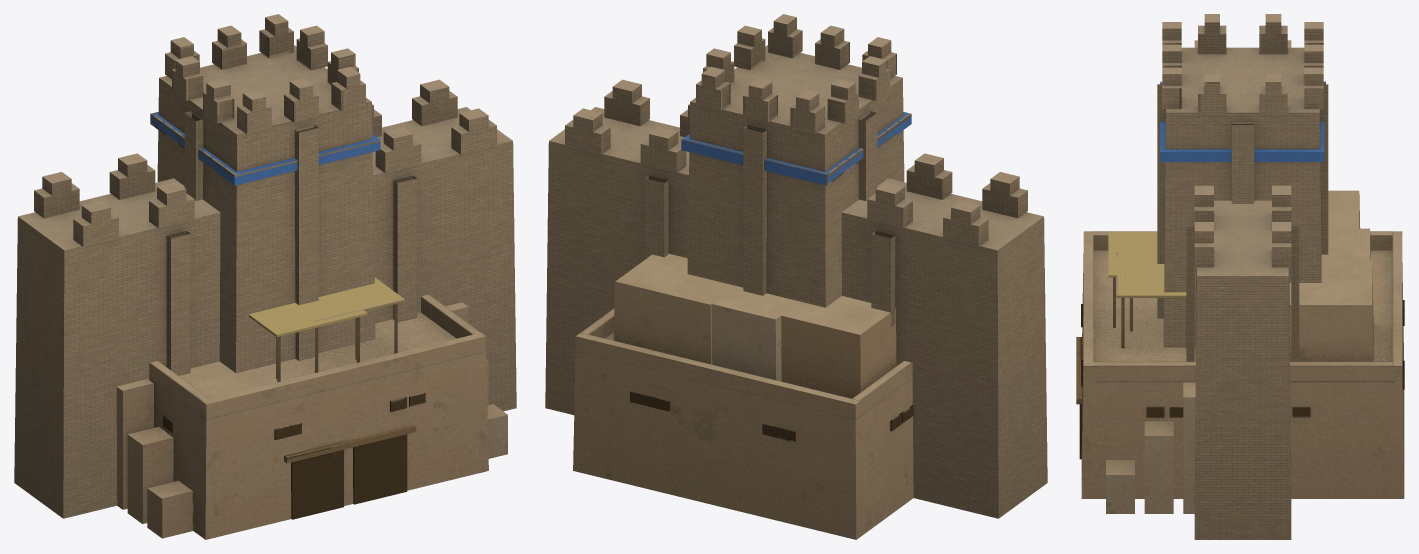
File: babylon_city.glb
3 renders of one model, left to right at view 1: azimuth 30°, elevation 25°; view 2: azimuth 150°, elevation 25°; view 3: azimuth 270°, elevation 25°, orthographic.
Visible parts, largest first — view 1: wall, lo0, tower, lo5, lo2, lo4, lo1, lo3; view 2: wall, lo0, tower, lo4, lo2, lo1, lo3; view 3: lo0, wall, tower, lo5, lo1, lo4, lo2, lo3.
Boxes of the visible parts, x1,y1,x2,y2 form: wall: (14,79,516,518); lo0: (116,277,488,539); tower: (150,14,380,373); lo5: (248,292,507,504); lo2: (163,393,425,516); lo4: (285,423,416,499); lo1: (284,447,332,519); lo3: (163,290,411,500); wall: (545,79,1047,518); lo0: (573,253,913,539); tower: (681,14,911,307); lo4: (630,298,896,440); lo2: (653,301,901,426); lo1: (639,275,797,442); lo3: (633,296,911,438); lo0: (1076,231,1404,498); wall: (1186,40,1299,539); tower: (1157,14,1328,347); lo5: (1076,215,1404,513); lo1: (1076,229,1404,417); lo4: (1076,190,1404,459); lo2: (1076,228,1404,417); lo3: (1076,200,1404,400).
Size of the model in its own units: 16 by 13.1 by 10.19.
Materials: 2 (2 with a texture image).
